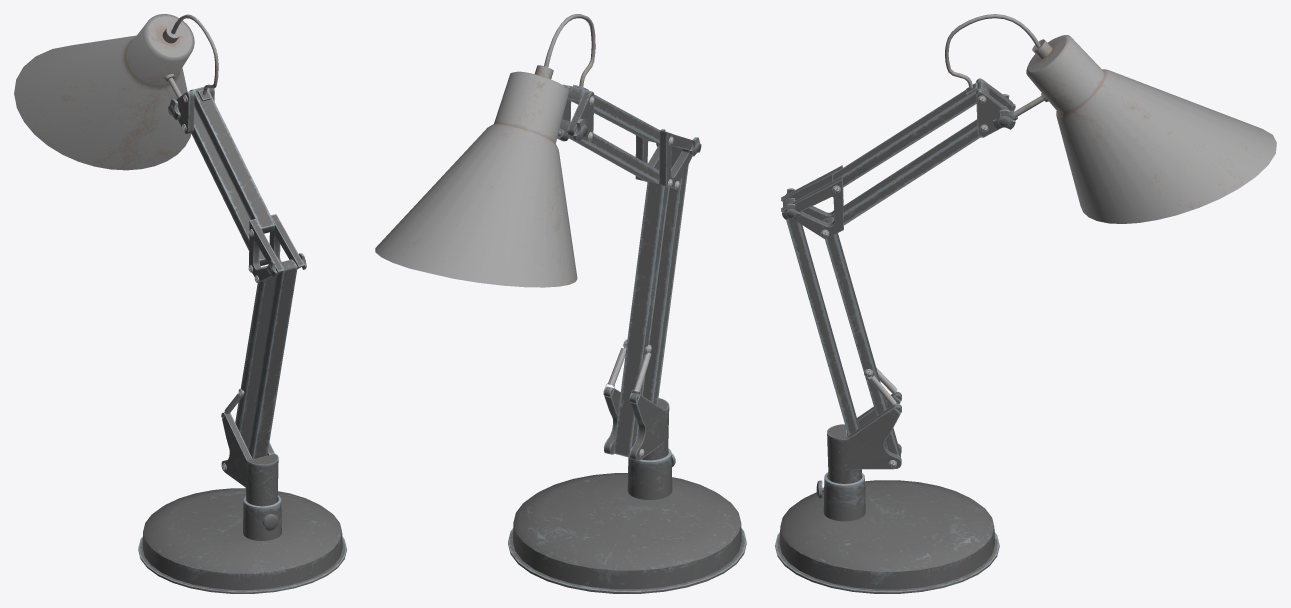
The model's file is SM_TableLamp_A1.fbx.
3 views of the same model, side by side, from view 1: azimuth 30°, elevation 25°; view 2: azimuth 150°, elevation 25°; view 3: azimuth 270°, elevation 25° (orthographic). The views are drawn at different scales.
Parts seen in each view (by area): view 1: SM_TableLamp_A1; view 2: SM_TableLamp_A1; view 3: SM_TableLamp_A1.
Part boxes in pixels (x1,y1,x2,y2): SM_TableLamp_A1: (14, 14, 346, 593); SM_TableLamp_A1: (375, 14, 746, 593); SM_TableLamp_A1: (775, 14, 1276, 593).
Bounding box in the file's own units: 23.38 × 52.56 × 61.65.
1 material, 1 textured.
